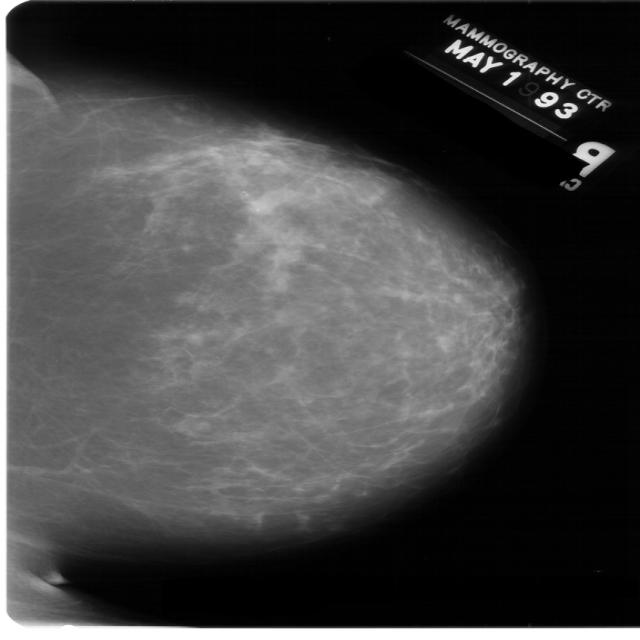tumour: (246, 187, 293, 215)
